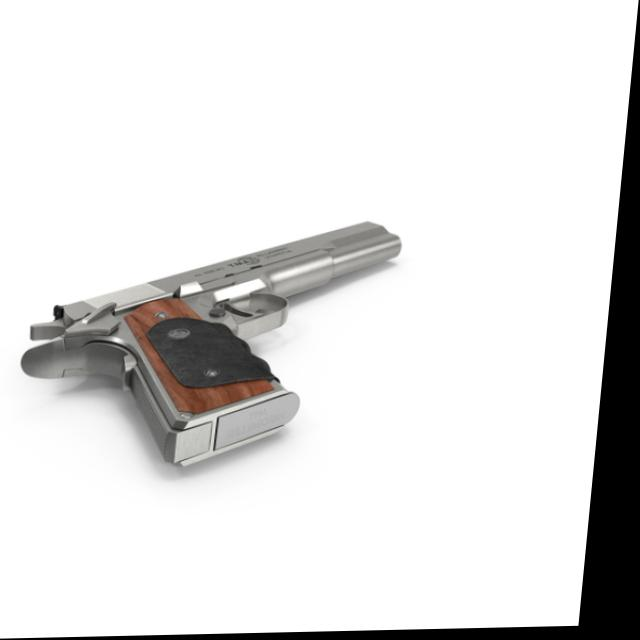handgun: (20, 218, 409, 475)
